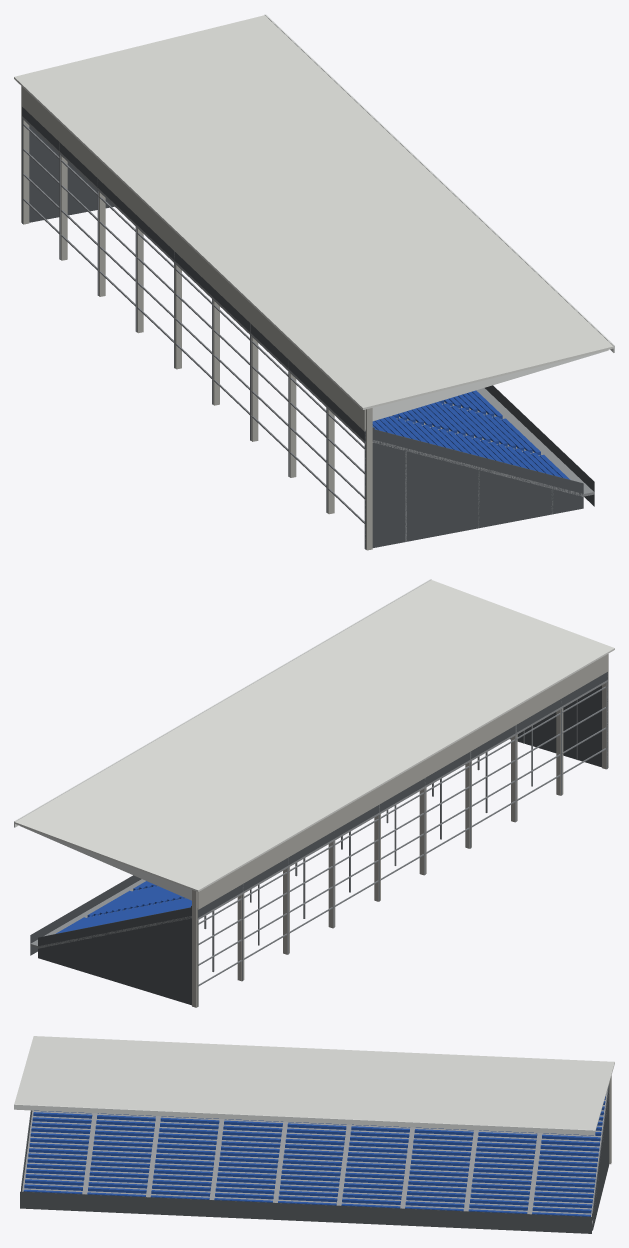
File: mza_stand_laterale_sinistra.glb
3 views of the same model, one above another, from view 1: azimuth 30°, elevation 25°; view 2: azimuth 150°, elevation 25°; view 3: azimuth 270°, elevation 25° (orthographic). The views are drawn at different scales.
Parts seen in each view (by area): view 1: monza-laterale-sinistra; view 2: monza-laterale-sinistra; view 3: monza-laterale-sinistra.
Boxes of the visible parts, x1=… form: monza-laterale-sinistra: x1=14, y1=14, x2=614, y2=550; monza-laterale-sinistra: x1=14, y1=579, x2=614, y2=1007; monza-laterale-sinistra: x1=14, y1=1036, x2=614, y2=1233.
Size of the model in its own units: 31.83 by 15.45 by 77.12.
